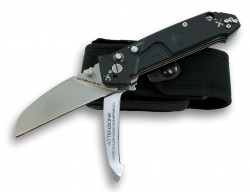knife: (10, 62, 112, 142)
